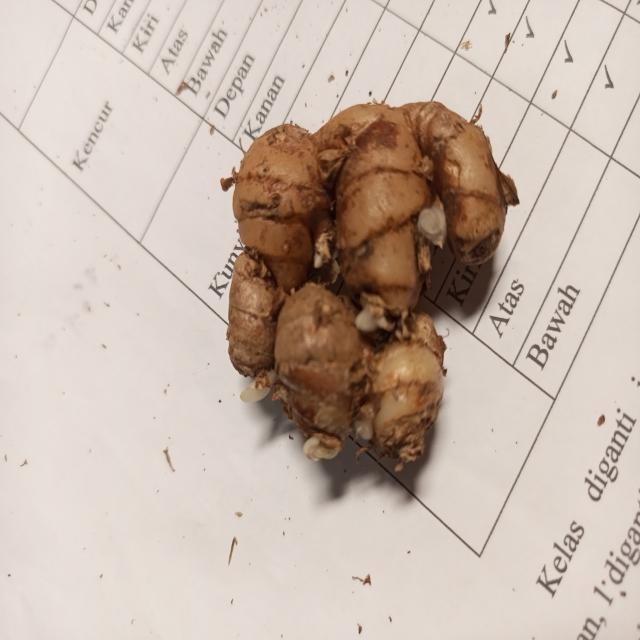ginger: (228, 104, 500, 448)
